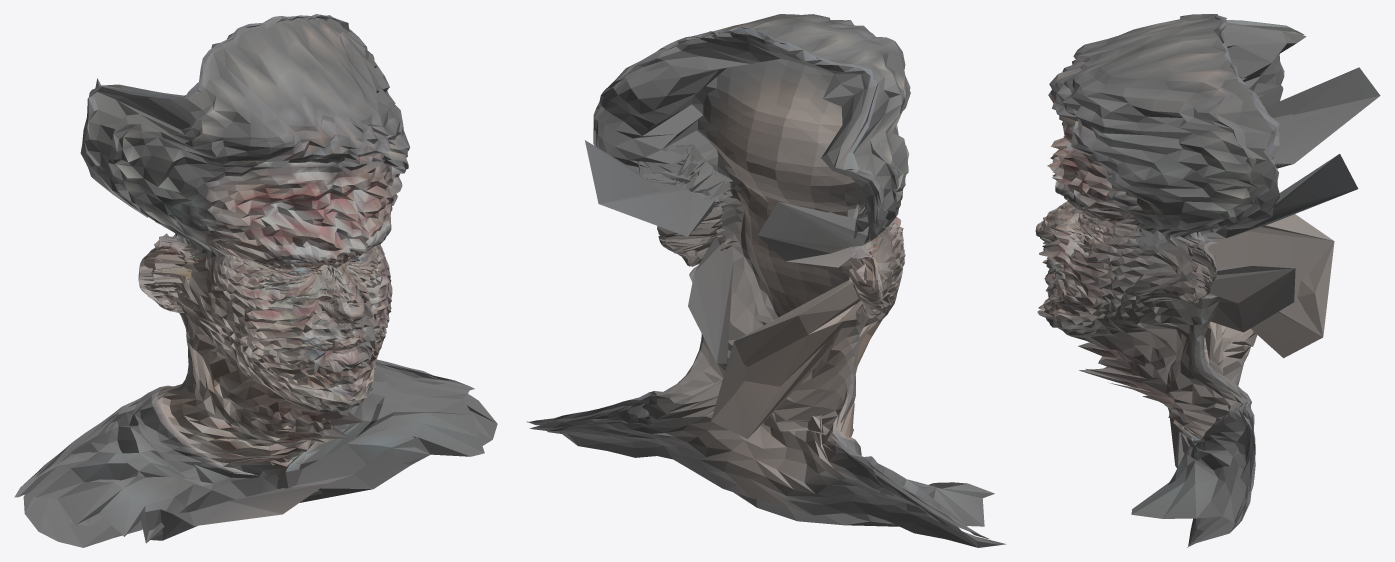
Rendered from chibi_textured_mesh.obj.
The picture shows the model from 3 angles, left to right: view 1: azimuth 30°, elevation 25°; view 2: azimuth 150°, elevation 25°; view 3: azimuth 270°, elevation 25°; orthographic projection. The views are drawn at different scales.
Size of the model in its own units: 0.3661 by 0.3668 by 0.2564.
